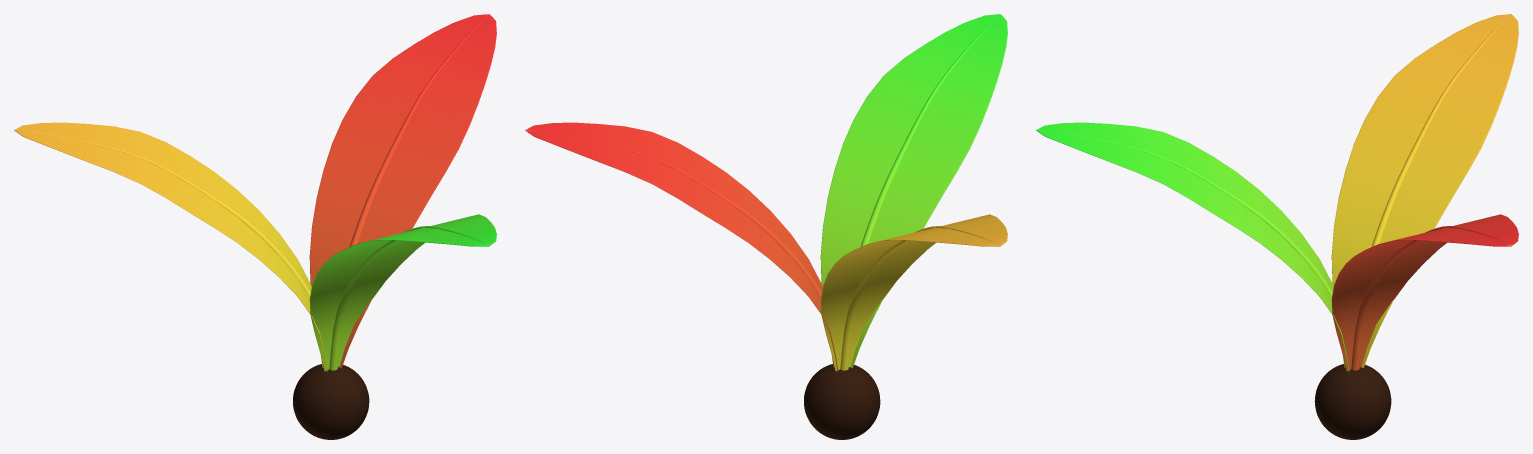
The model's file is wing.fbx.
3 renders of one model, left to right at view 1: azimuth 30°, elevation 25°; view 2: azimuth 150°, elevation 25°; view 3: azimuth 270°, elevation 25°, orthographic.
Parts seen in each view (by area): view 1: polySurface18, polySurface17, polySurface16, pSphere1, pDisc4, pDisc3, pDisc5; view 2: polySurface16, polySurface18, polySurface17, pSphere1, pDisc3, pDisc5, pDisc4; view 3: polySurface17, polySurface16, polySurface18, pSphere1, pDisc5, pDisc4, pDisc3.
Part boxes in pixels (left/top/right/bottom): polySurface18: left=309, top=14, right=496, bottom=368; polySurface17: left=14, top=122, right=327, bottom=371; polySurface16: left=309, top=214, right=496, bottom=370; pSphere1: left=293, top=364, right=369, bottom=439; pDisc4: left=349, top=15, right=487, bottom=246; pDisc3: left=329, top=226, right=487, bottom=370; pDisc5: left=17, top=130, right=323, bottom=367; polySurface16: left=820, top=14, right=1007, bottom=368; polySurface18: left=525, top=122, right=838, bottom=371; polySurface17: left=820, top=214, right=1007, bottom=370; pSphere1: left=804, top=364, right=880, bottom=439; pDisc3: left=860, top=15, right=998, bottom=246; pDisc5: left=840, top=226, right=998, bottom=370; pDisc4: left=528, top=130, right=834, bottom=367; polySurface17: left=1331, top=14, right=1518, bottom=367; polySurface16: left=1036, top=122, right=1349, bottom=371; polySurface18: left=1331, top=214, right=1518, bottom=370; pSphere1: left=1314, top=364, right=1391, bottom=439; pDisc5: left=1371, top=15, right=1509, bottom=246; pDisc4: left=1351, top=226, right=1509, bottom=370; pDisc3: left=1039, top=130, right=1345, bottom=367.
Size of the model in its own units: 7.06 by 4.35 by 6.21.
